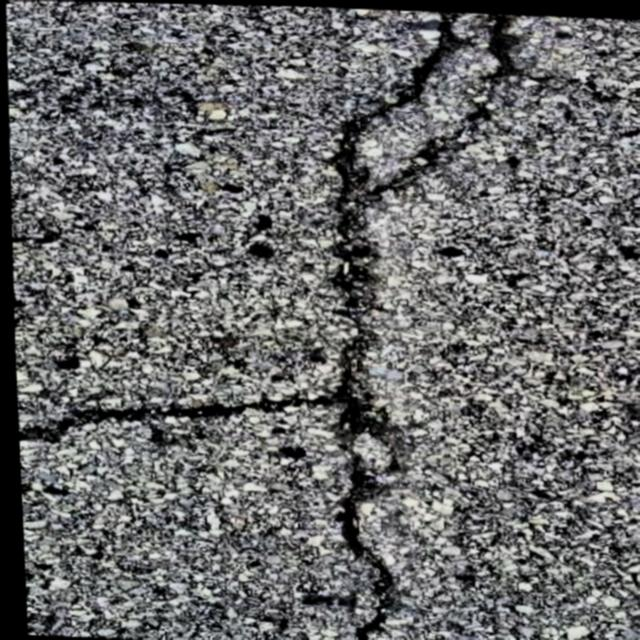cracks: (334, 12, 517, 640), (19, 370, 400, 469)
